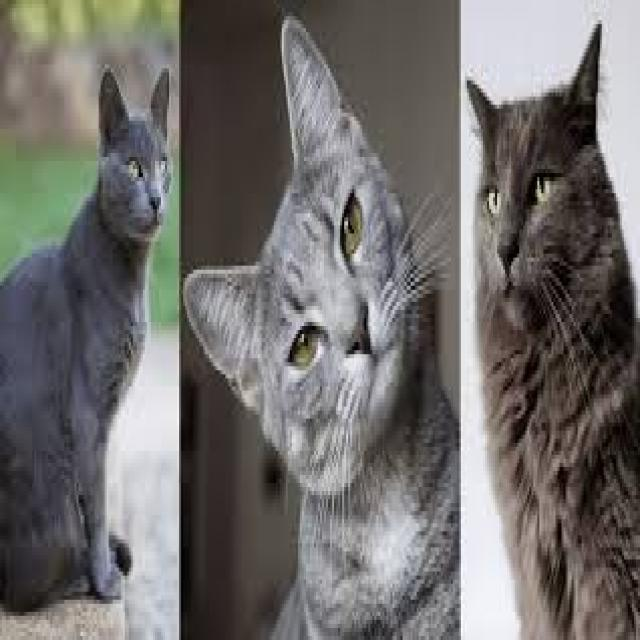Cat: (183, 14, 459, 639), (463, 16, 640, 640), (2, 62, 174, 617)
